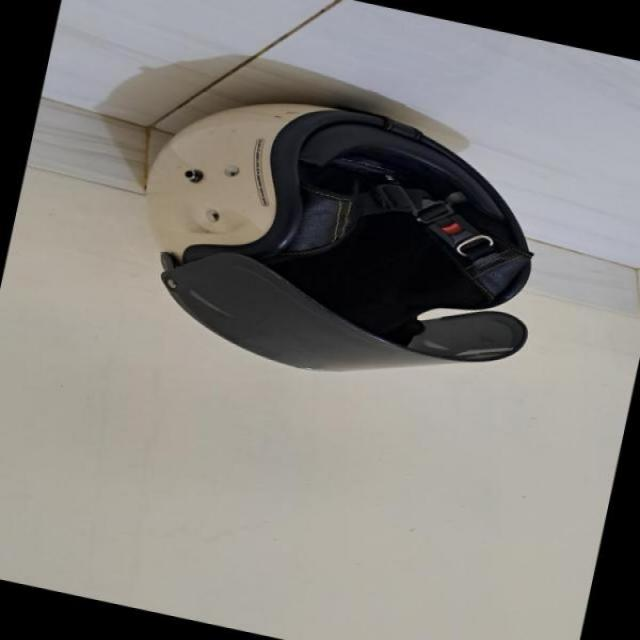Helmet: (121, 59, 531, 401)
